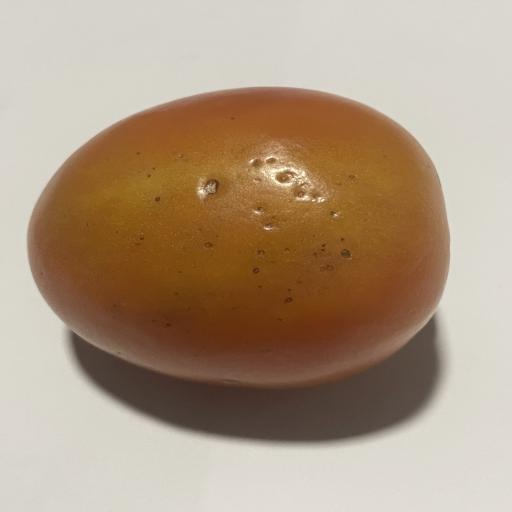unripe: (28, 87, 449, 388)
